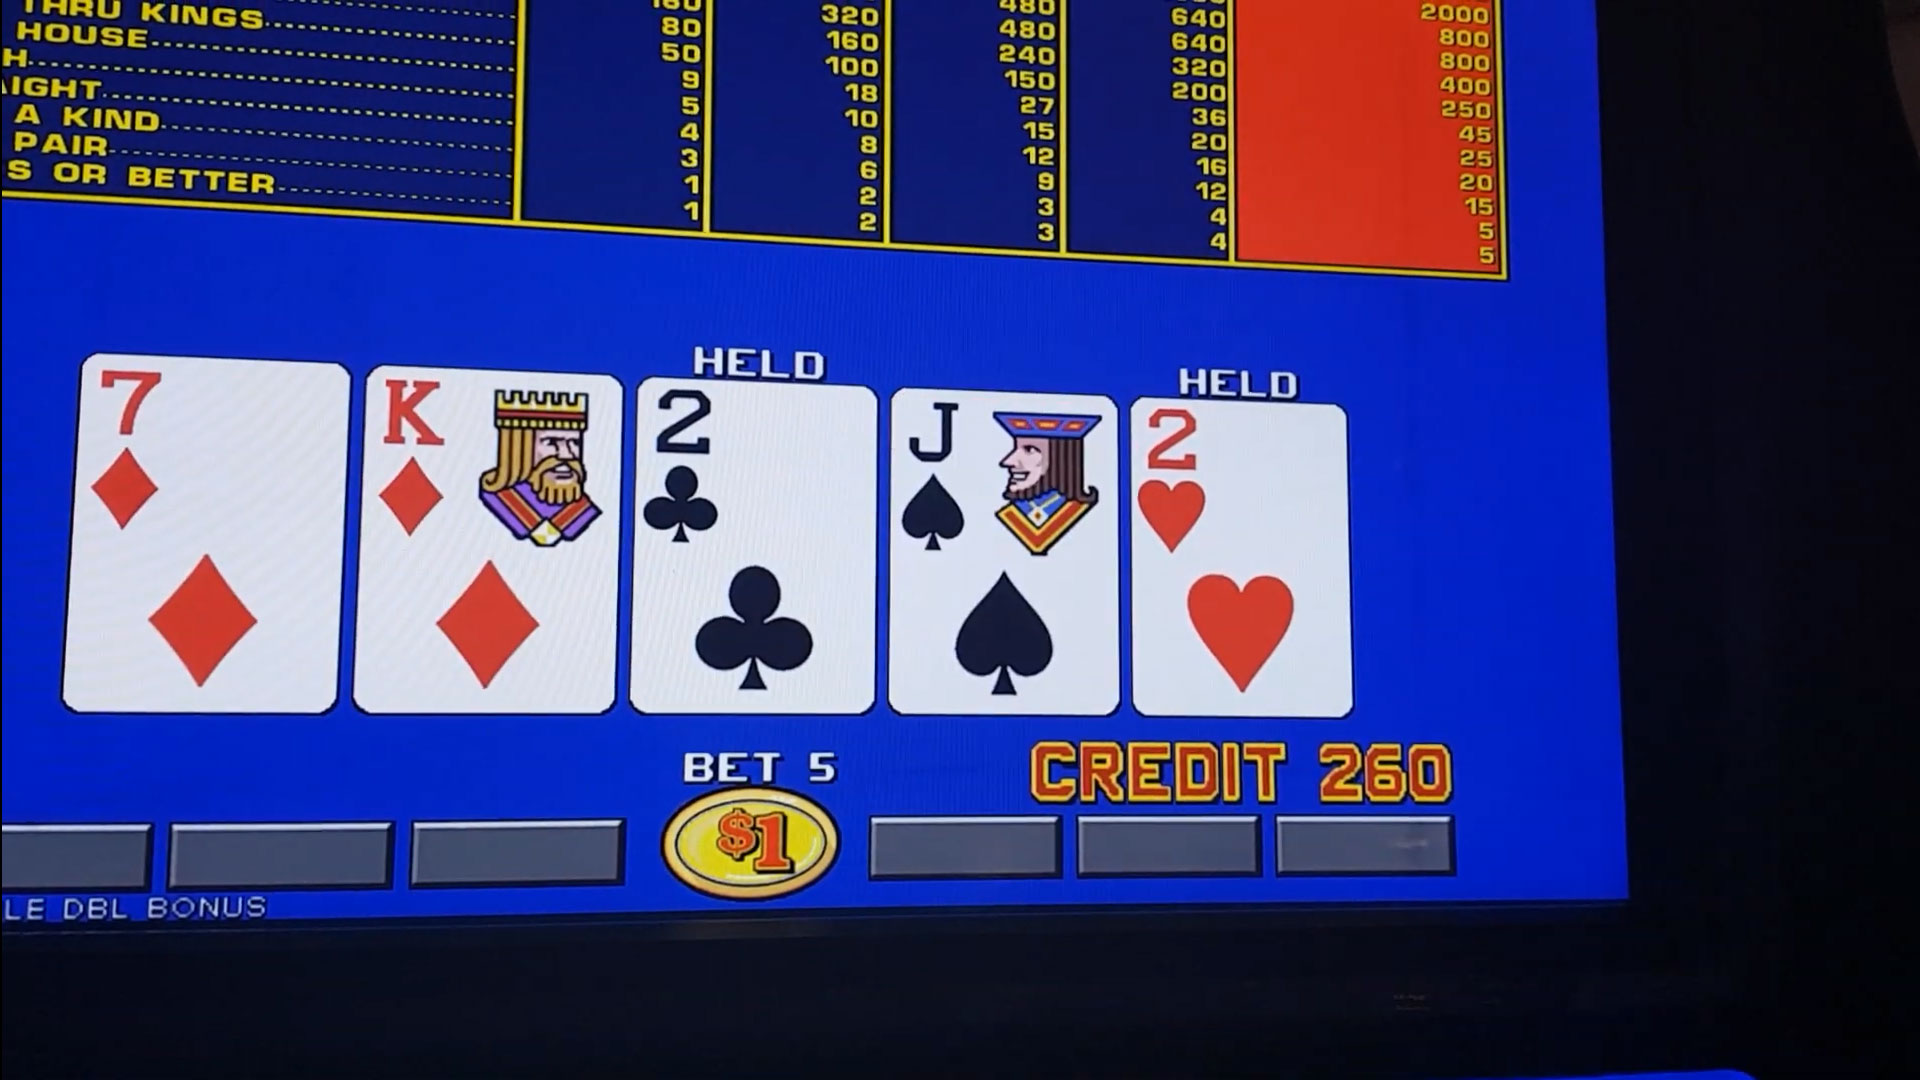C2: (636, 389, 876, 563)
D7: (86, 367, 344, 541)
DK: (367, 380, 617, 549)
H2: (1135, 404, 1341, 570)
SJ: (895, 402, 1108, 568)
